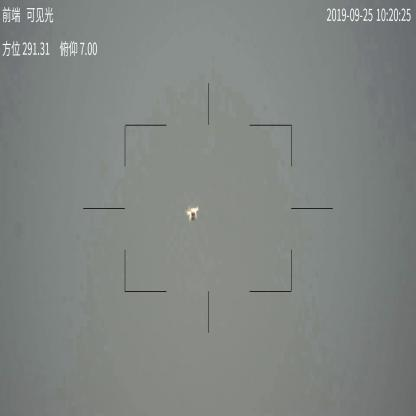uav: (184, 202, 200, 223)
